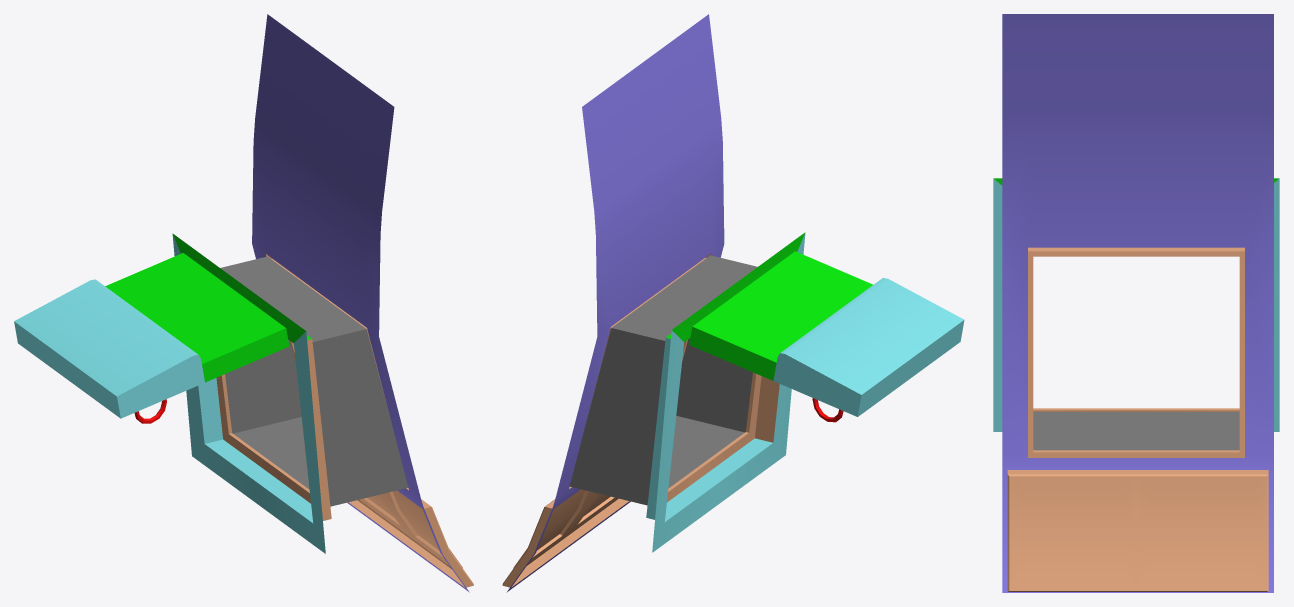
File: curved_wall_sabord.fbx
3 renders of one model, left to right at view 1: azimuth 30°, elevation 25°; view 2: azimuth 150°, elevation 25°; view 3: azimuth 270°, elevation 25°, orthographic. The views are drawn at different scales.
Parts seen in each view (by area): view 1: wall_1x2 windowcurved; view 2: wall_1x2 windowcurved; view 3: wall_1x2 windowcurved.
Boxes of the visible parts, x1,y1,x2,y2 form: wall_1x2 windowcurved: (14, 14, 473, 592); wall_1x2 windowcurved: (502, 14, 964, 592); wall_1x2 windowcurved: (993, 14, 1279, 592).
Bounding box in the file's own units: 1.59 × 2.2 × 1.06.
